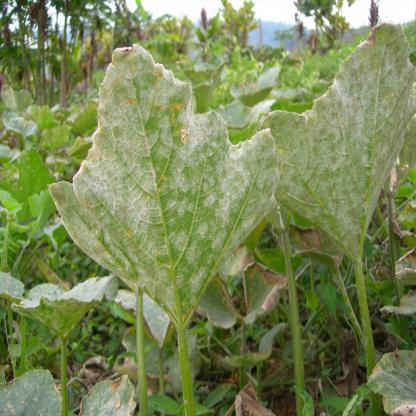Squash Powdery mildew leaf: (44, 40, 284, 320), (270, 22, 416, 255)
